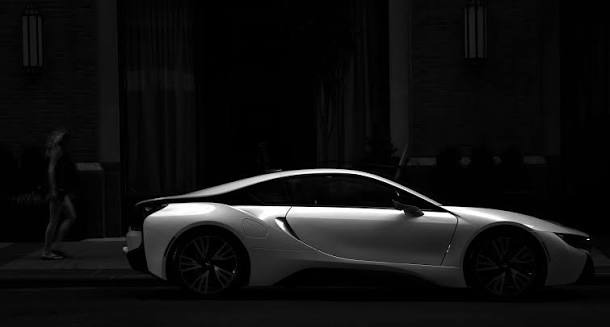car: (120, 163, 604, 297)
